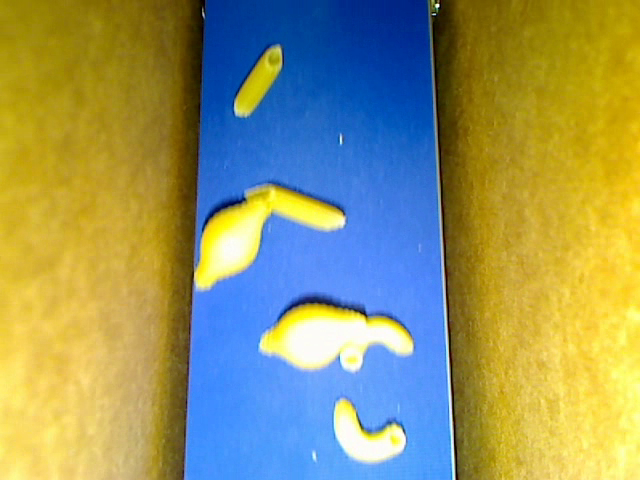elbow: (332, 396, 407, 464), (338, 314, 413, 371)
penne: (244, 183, 346, 230), (234, 44, 283, 116)
shell: (192, 196, 272, 290), (260, 302, 366, 371)
